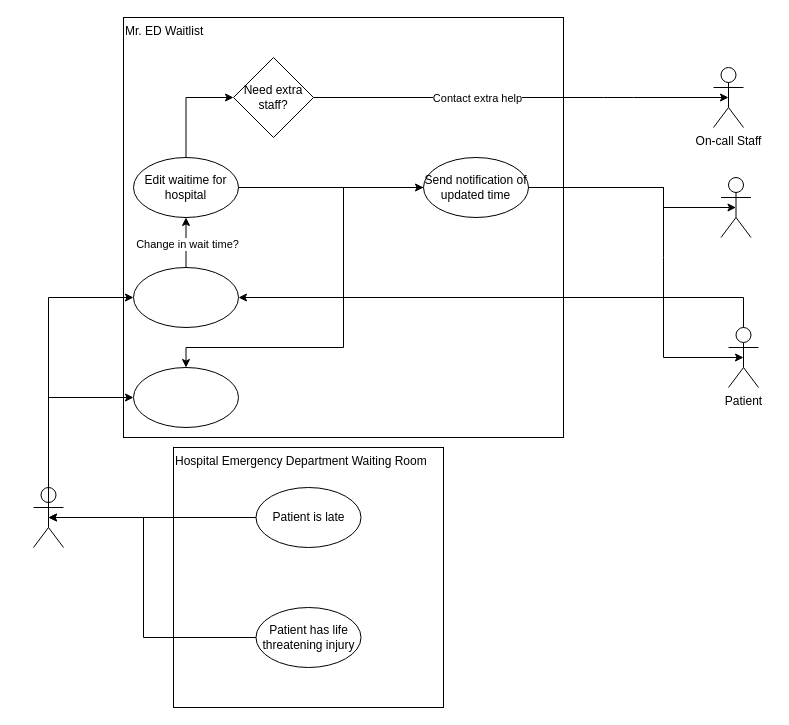
This 789x725 diagram has some shape labels left out. Each missing label, with the centre of its shape:
Emergency Department Manager: the point at 48,517
Hospital Staff: the point at 735,207
View current wait time: the point at 185,297
View Emergency Department statistics: the point at 185,397
